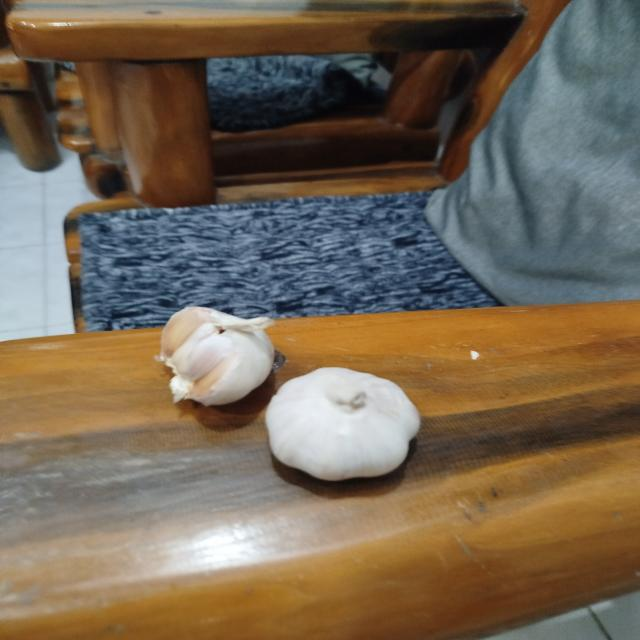garlic: (265, 366, 421, 482), (155, 305, 276, 407)
